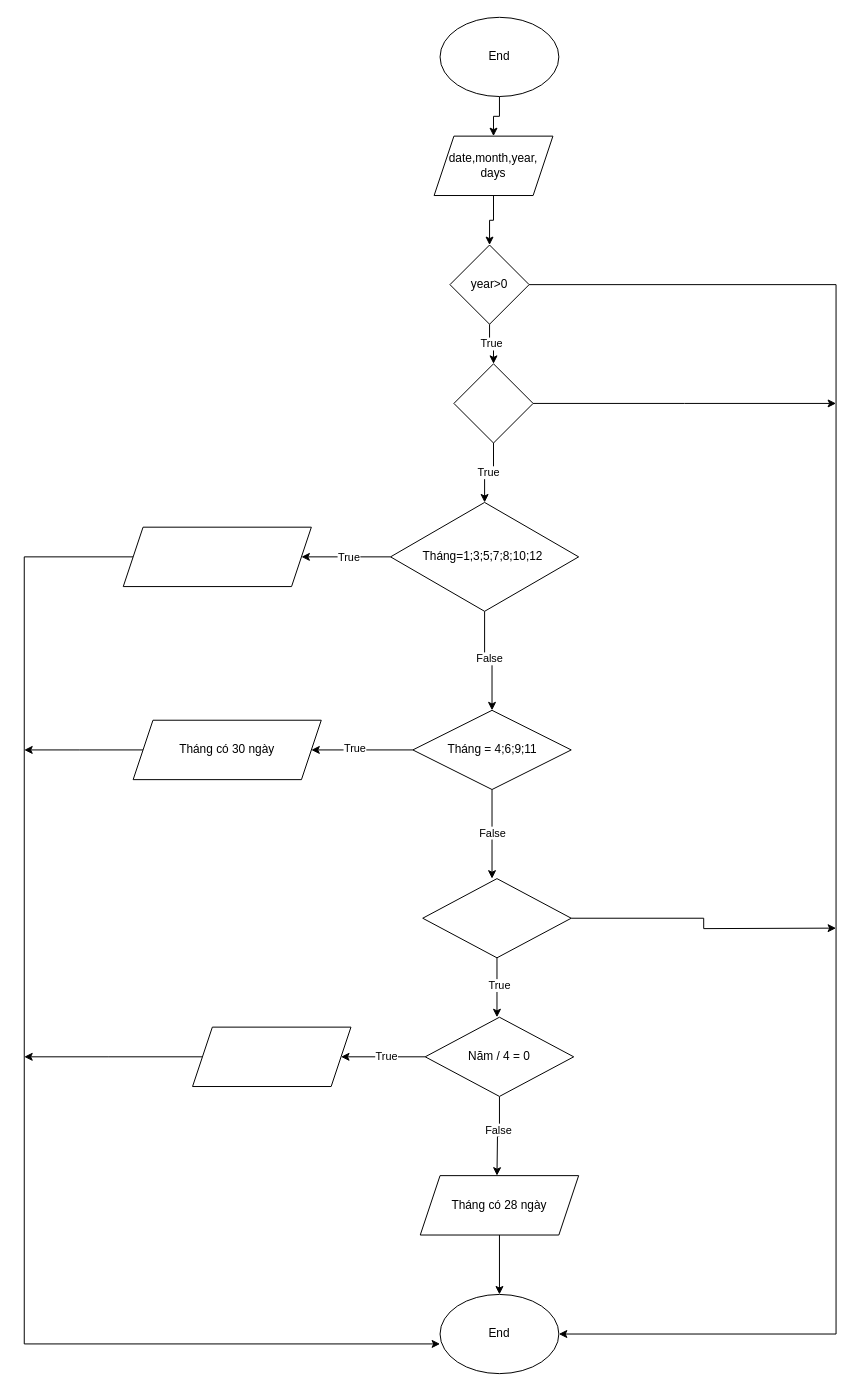
Image size: 861x1391. Some labels were removed from this diagram. Each missing label, with the centre of its shape:
"0<month<13" belongs at point (493, 403).
"Tháng = 2" belongs at point (496, 918).
"Tháng có 29 ngày" belongs at point (271, 1056).
"Tháng có 31 ngày" belongs at point (216, 556).
